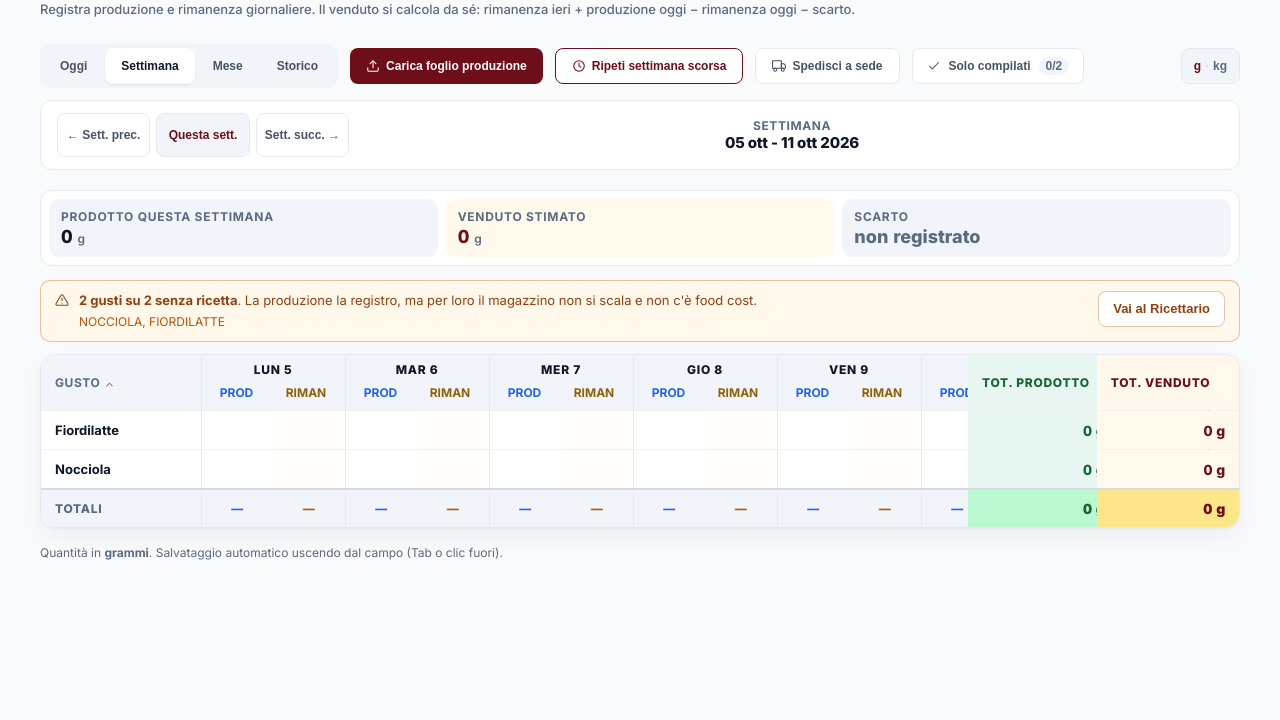
Scenario: la domanda la fa Foodos, e Annulla vuol dire annulla › il messaggio dice quante celle, con il punto delle migliaia
Click the button "Ripeti settimana scorsa".
click(649, 66)  # box [555,48,743,84]
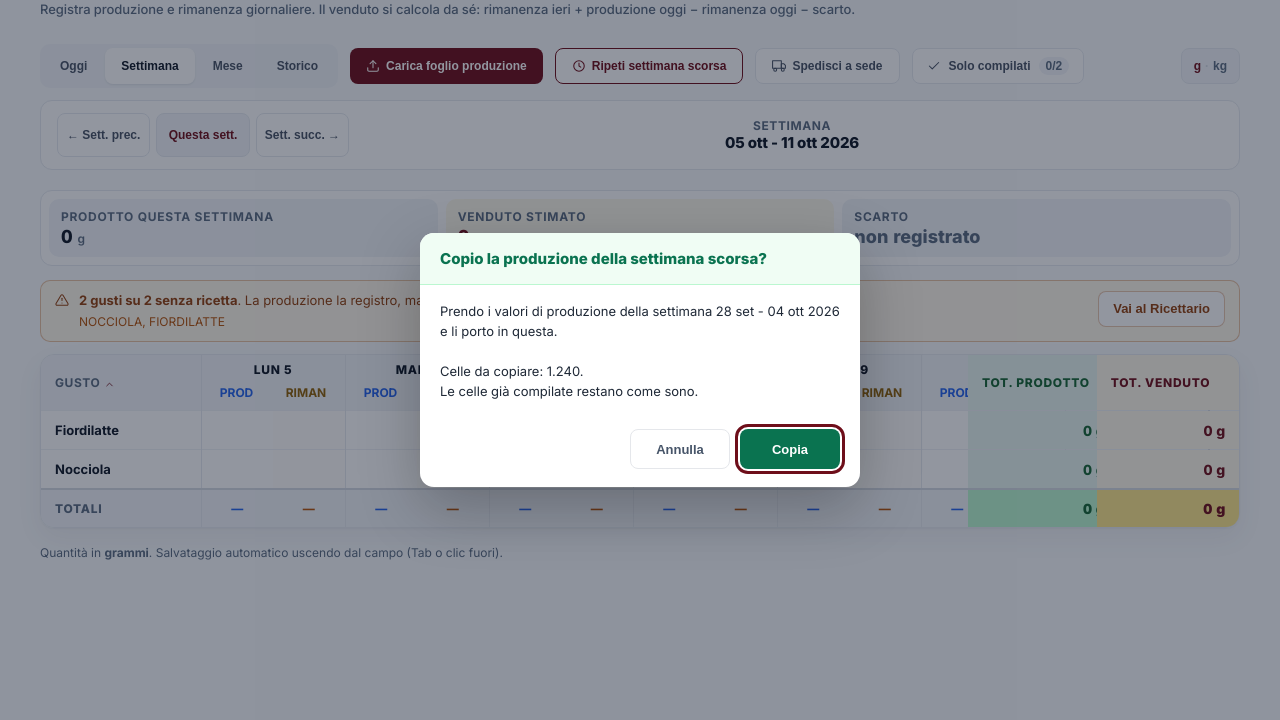
expect the text "Celle da copiare: 1.240." is shown: met, box [440,303,840,399]
